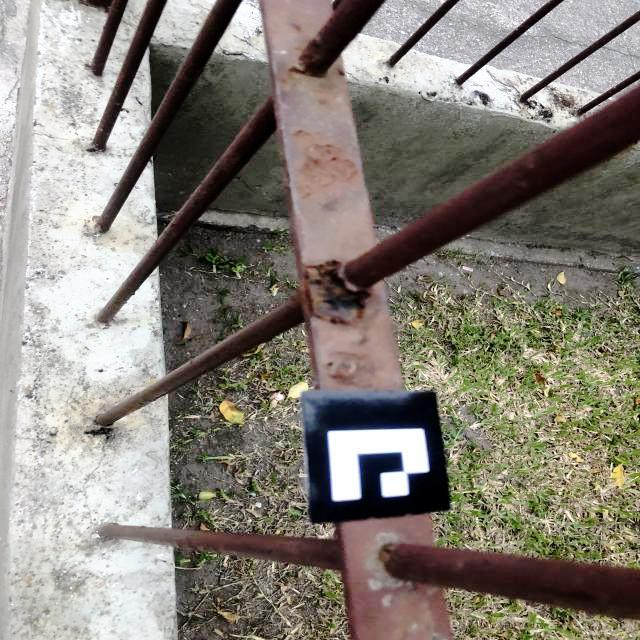Corrosion: (301, 258, 374, 342), (287, 127, 358, 200), (321, 348, 378, 387), (277, 44, 313, 89), (292, 23, 304, 31)
